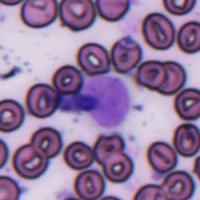L: (82, 74, 130, 128)
